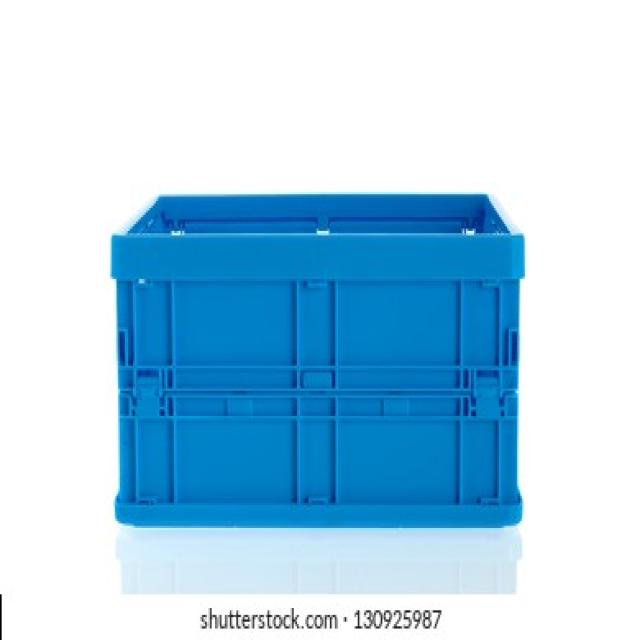basket: (112, 194, 525, 527)
